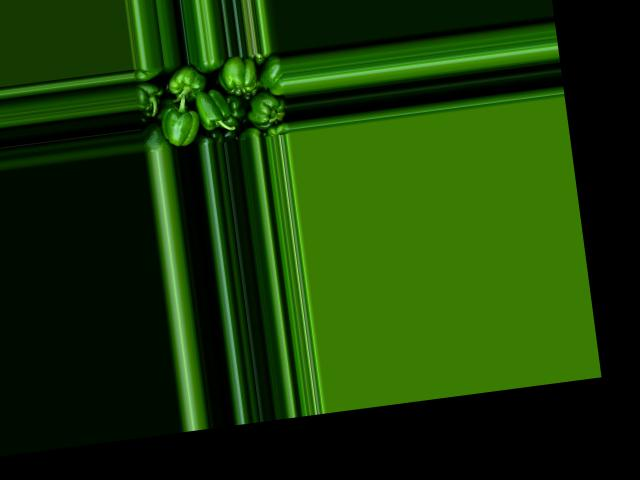bell_pepper: (139, 121, 176, 152)
